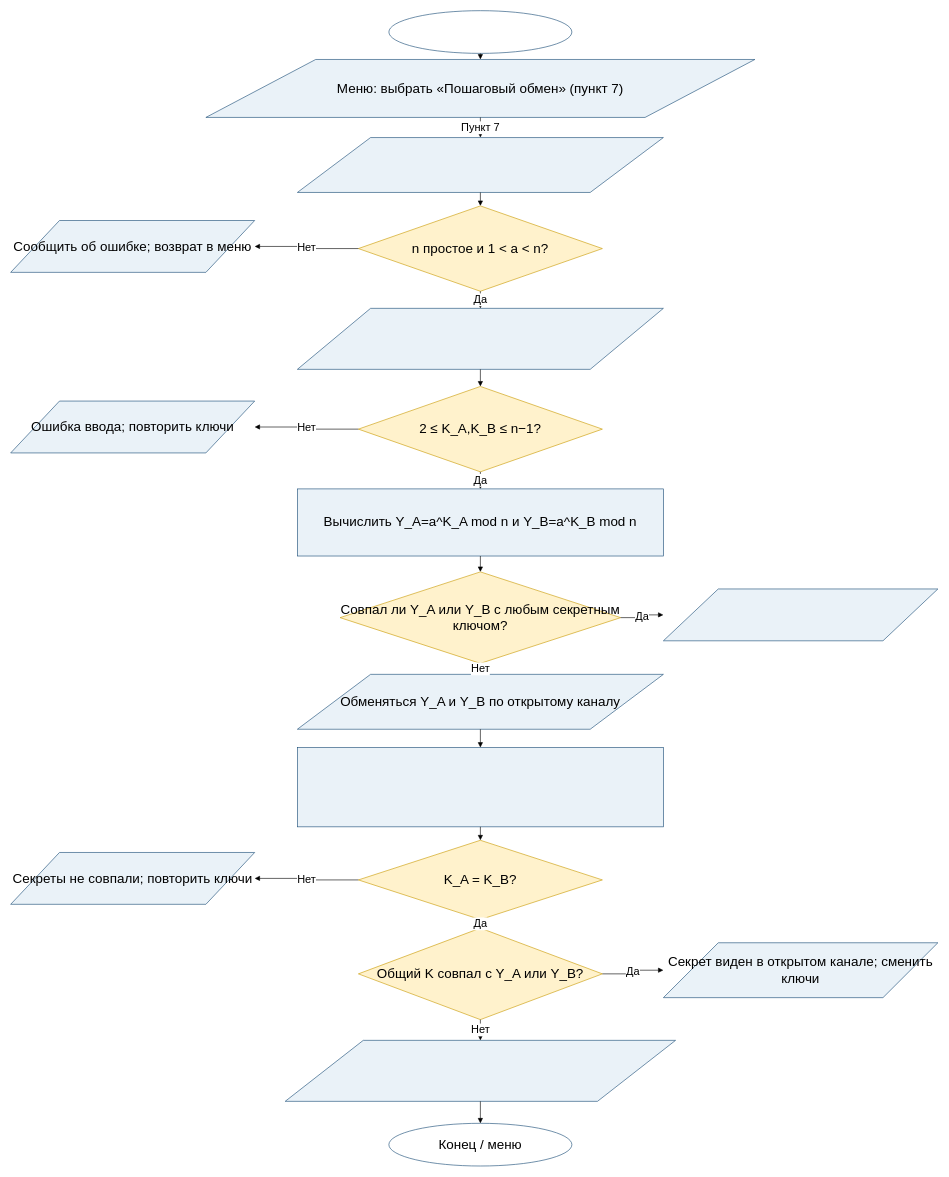
Some shapes in this 949 by 1177 pixel diagram are drawn without their labels. Each missing label, with the centre of its shape:
"Ввести публичные параметры n и a" belongs at point 480,164.
"Ввести секретные ключи K_A и K_B" belongs at point 480,338.
"Вывести общий секрет; протокол проверен" belongs at point 480,1070.
"Вычислить K_A=Y_B^K_A mod n и K_B=Y_A^K_B mod n" belongs at point 480,787.
"Начало" belongs at point 480,31.
"Секрет раскрывается; сменить K_A и K_B" belongs at point 800,614.
